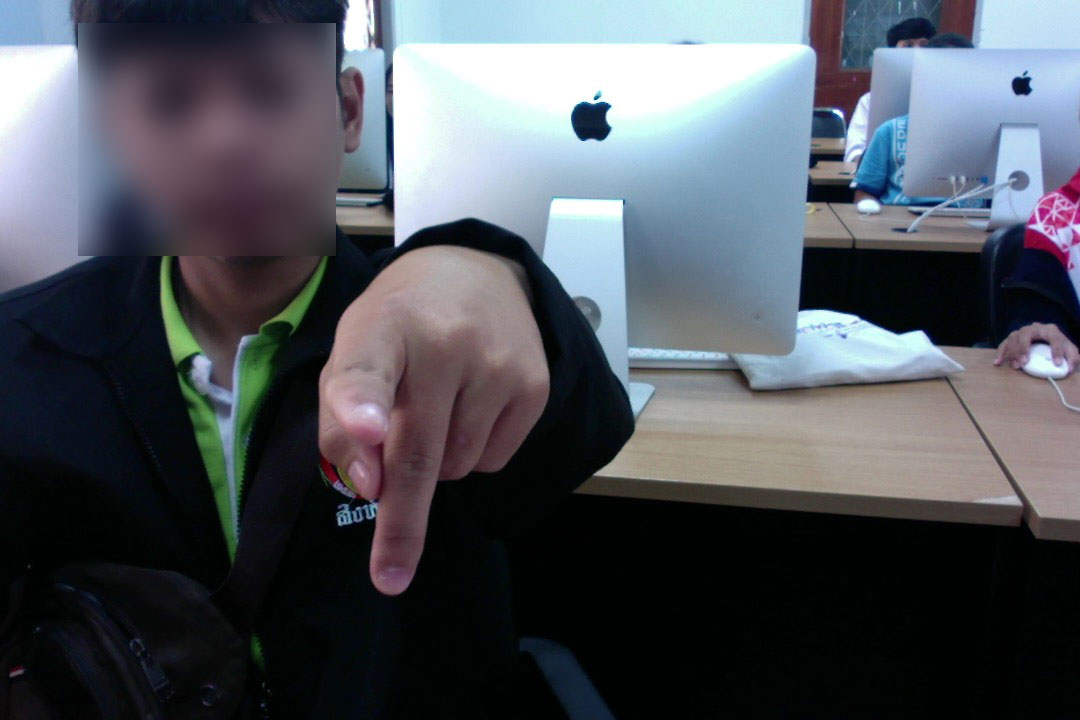por: (317, 240, 562, 597)
